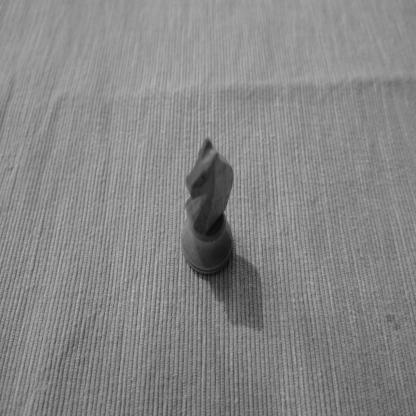white-knight: (180, 136, 235, 278)
